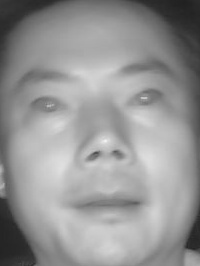eye: (30, 92, 75, 120), (124, 87, 169, 113)
mouth: (71, 185, 144, 227)
